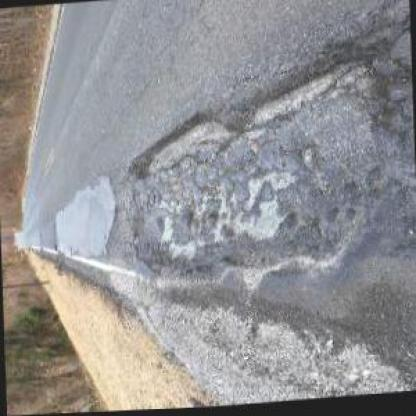pothole: (118, 43, 409, 287)
